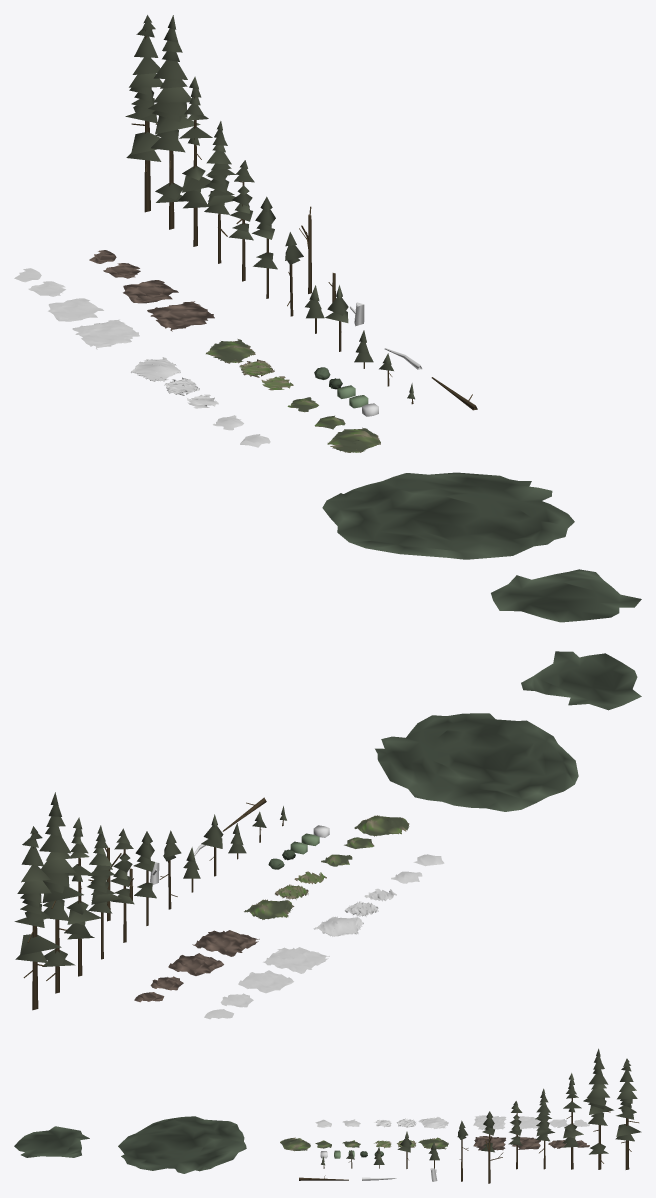
The model's file is Pine Forest_LowPoly.fbx.
The picture shows the model from 3 angles, top to bottom: view 1: azimuth 30°, elevation 25°; view 2: azimuth 150°, elevation 25°; view 3: azimuth 270°, elevation 25°; orthographic projection. The views are drawn at different scales.
Visible parts, largest first — view 1: grassWide, grassWide1, Evergreen_TallTall, Evergreen_TallWide, Evergreen_TallMed, EvergreenTallThick, GroundCover_Dirt, GroundDark_1, Evergreen_TallShort, GroundCover_Grass2, Evergreen_TallSmall, GroundDark_2 (+1 smaller); view 2: grassWide, grassWide1, Evergreen_TallTall, Evergreen_TallWide, Evergreen_TallMed, EvergreenTallThick, GroundCover_Dirt, GroundDark_1, Evergreen_TallShort, Evergreen_TallSmall, GroundCover_Grass2, GroundDark_2 (+3 smaller); view 3: grassWide, grassWide1, Evergreen_TallTall, Evergreen_TallWide, Evergreen_TallMed, EvergreenTallThick, Evergreen_TallShort, GroundCover_Dirt, GroundCover_Grass2, GroundDark_1, Evergreen_TallSmall, GroundDark_Alpha_2 (+3 smaller).
Boxes of the visible parts, left/top/right/bottom form: grassWide: left=322, top=472, right=574, bottom=559; grassWide1: left=491, top=569, right=641, bottom=622; Evergreen_TallTall: left=148, top=15, right=200, bottom=229; Evergreen_TallWide: left=125, top=15, right=162, bottom=212; Evergreen_TallMed: left=178, top=76, right=212, bottom=246; EvergreenTallThick: left=204, top=121, right=235, bottom=263; GroundCover_Dirt: left=147, top=301, right=214, bottom=331; GroundDark_1: left=72, top=319, right=139, bottom=349; Evergreen_TallShort: left=229, top=160, right=254, bottom=281; GroundCover_Grass2: left=327, top=427, right=380, bottom=452; Evergreen_TallSmall: left=252, top=196, right=277, bottom=298; GroundDark_2: left=48, top=298, right=103, bottom=321; grassWide: left=375, top=713, right=578, bottom=811; grassWide1: left=521, top=651, right=641, bottom=710; Evergreen_TallTall: left=39, top=792, right=83, bottom=993; Evergreen_TallWide: left=14, top=826, right=61, bottom=1010; Evergreen_TallMed: left=64, top=817, right=101, bottom=976; EvergreenTallThick: left=87, top=825, right=121, bottom=959; GroundCover_Dirt: left=192, top=930, right=259, bottom=956; GroundDark_1: left=263, top=947, right=329, bottom=973; Evergreen_TallShort: left=110, top=828, right=134, bottom=942; Evergreen_TallSmall: left=133, top=831, right=156, bottom=925; GroundCover_Grass2: left=354, top=815, right=409, bottom=836; GroundDark_2: left=238, top=970, right=293, bottom=993; grassWide: left=118, top=1116, right=246, bottom=1173; grassWide1: left=14, top=1126, right=89, bottom=1157; Evergreen_TallTall: left=583, top=1048, right=613, bottom=1169; Evergreen_TallWide: left=615, top=1058, right=641, bottom=1169; Evergreen_TallMed: left=562, top=1073, right=583, bottom=1169; EvergreenTallThick: left=535, top=1088, right=554, bottom=1169; Evergreen_TallShort: left=508, top=1101, right=522, bottom=1169; GroundCover_Dirt: left=473, top=1136, right=505, bottom=1150; GroundCover_Grass2: left=280, top=1137, right=310, bottom=1151; GroundDark_1: left=473, top=1115, right=506, bottom=1129; Evergreen_TallSmall: left=481, top=1111, right=494, bottom=1152; GroundDark_Alpha_2: left=418, top=1116, right=448, bottom=1128.
Bounding box in the file's own units: 1.14 × 0.9956 × 4.56.
